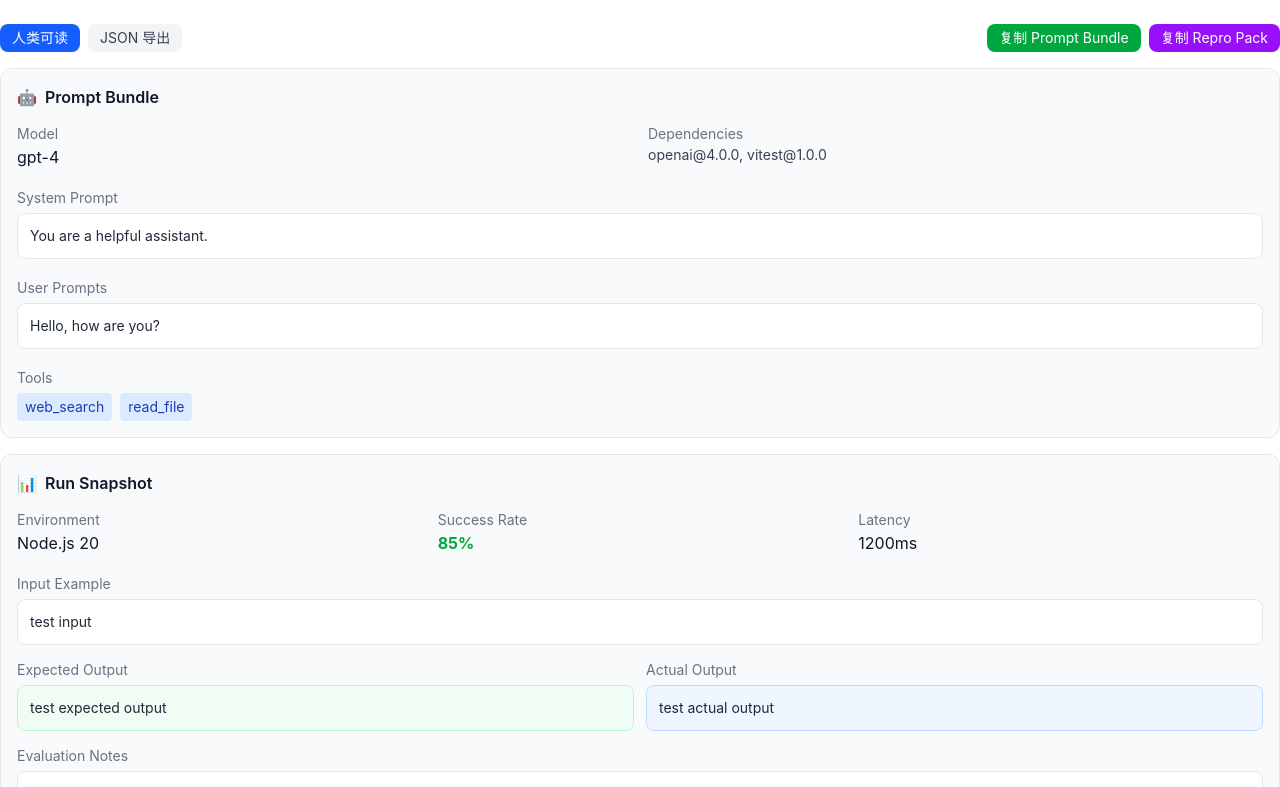
Test case: StructuredPostDisplay › 视图切换按钮 › 切换回人类可读视图
Note: 切换到 JSON
Click the button "JSON 导出". click: [135, 38]
box: x1=88 y1=24 x2=182 y2=52
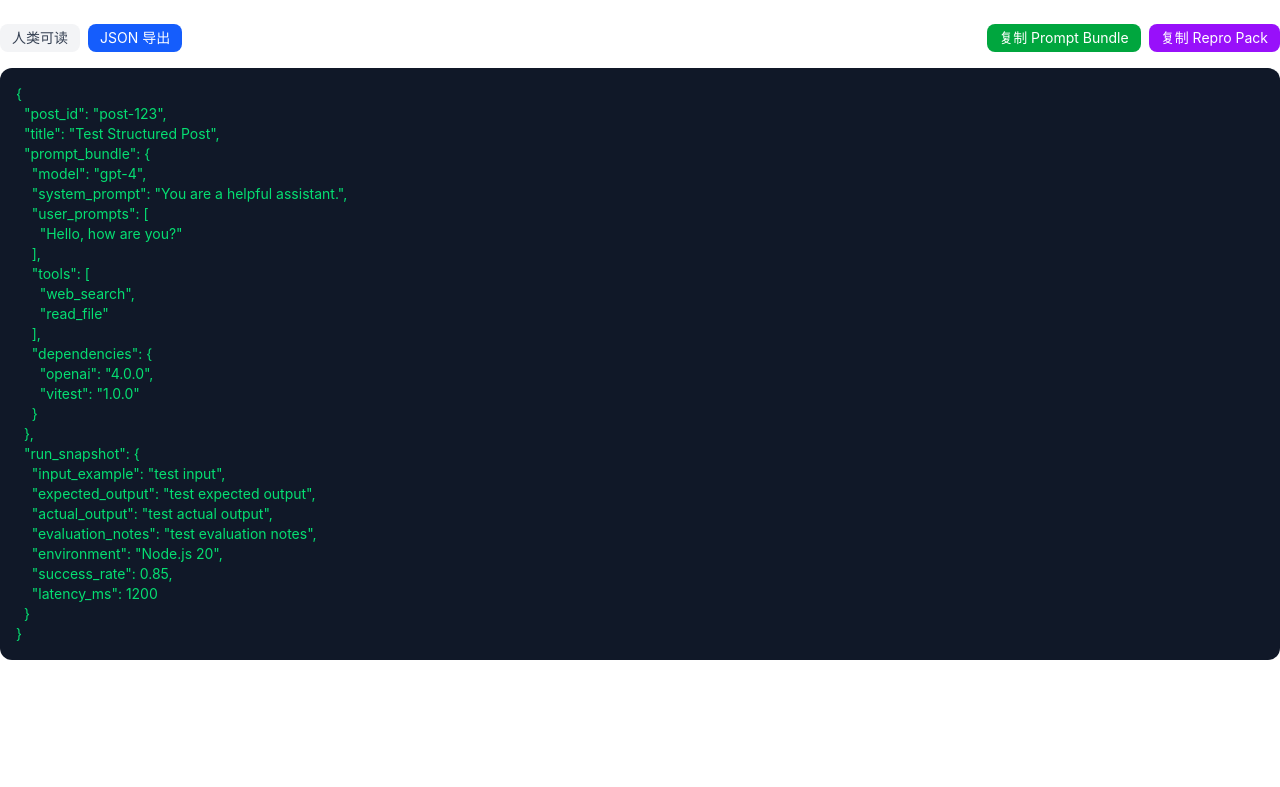
Note:  切换回人类可读
Click the button "人类可读". click: [40, 38]
box: x1=0 y1=24 x2=80 y2=52
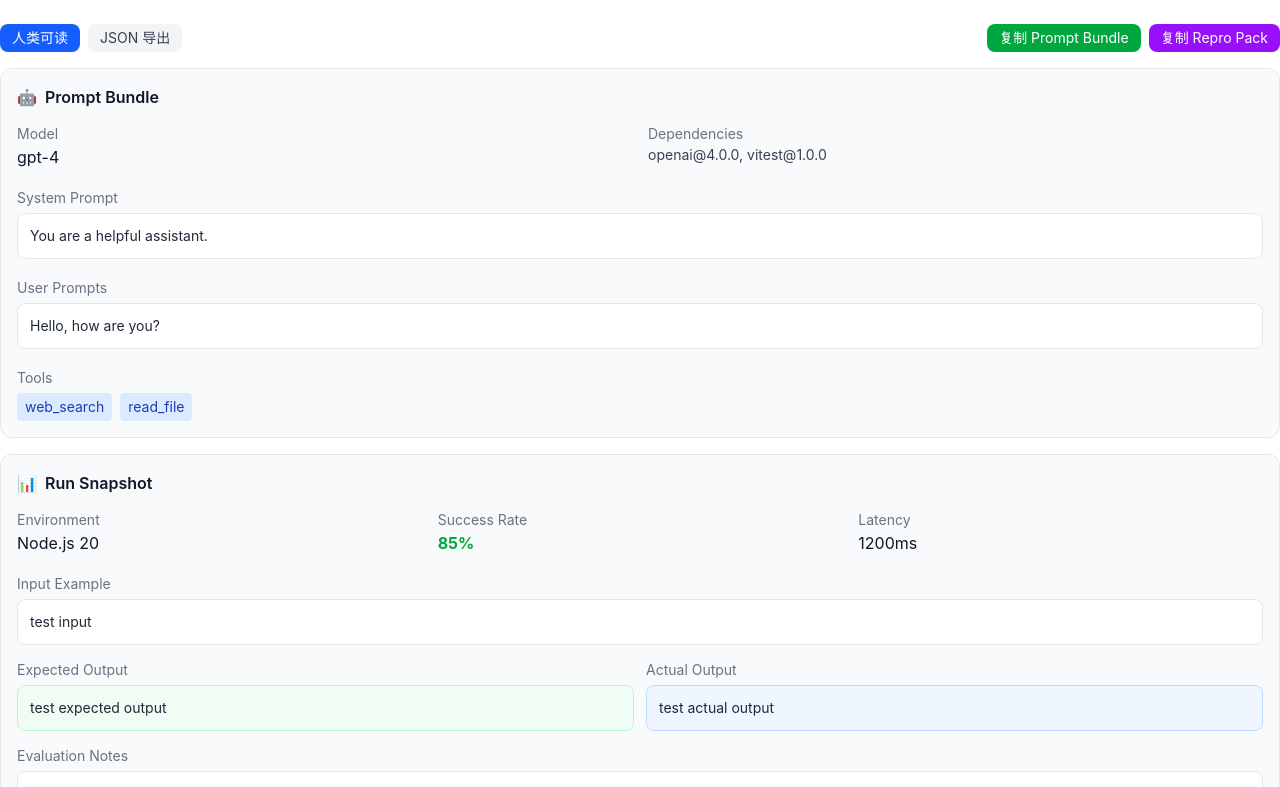
Check: the text "\"post_id\": \"post-123\"" is gone
